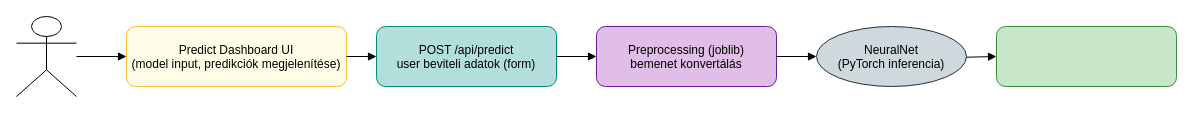
Image size: 1193x113. Some labels were removed from this diagram. Here are the shapes that lost their labels. From the top down, the box of each, then its label:
(16, 16, 76, 96): User
(996, 26, 1176, 86): Prediction vissza (Dashboardon megjelenítés)
